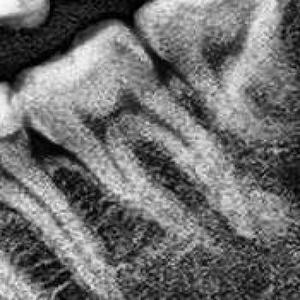tooth: (19, 21, 253, 238), (133, 0, 300, 144)
